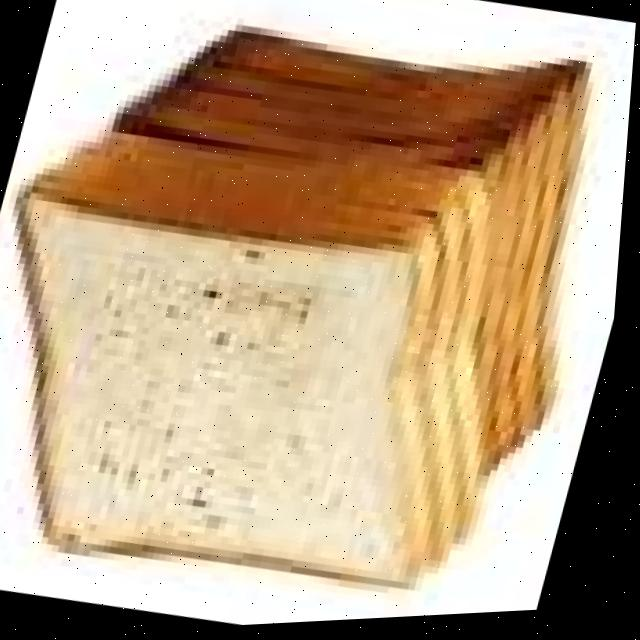Bread: (29, 198, 418, 585)
